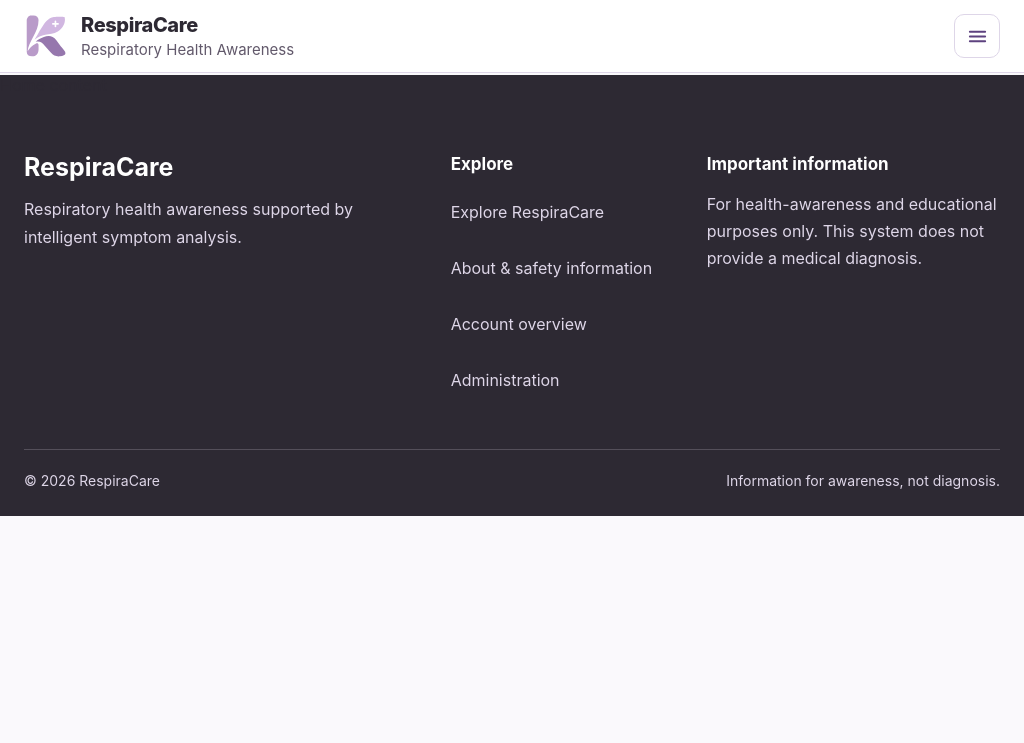
role-based application navigation › shows only admin links in the admin mobile menu
Step 1. Click the button named "Open navigation menu" → [977, 36], box 954,14 -> 1000,58
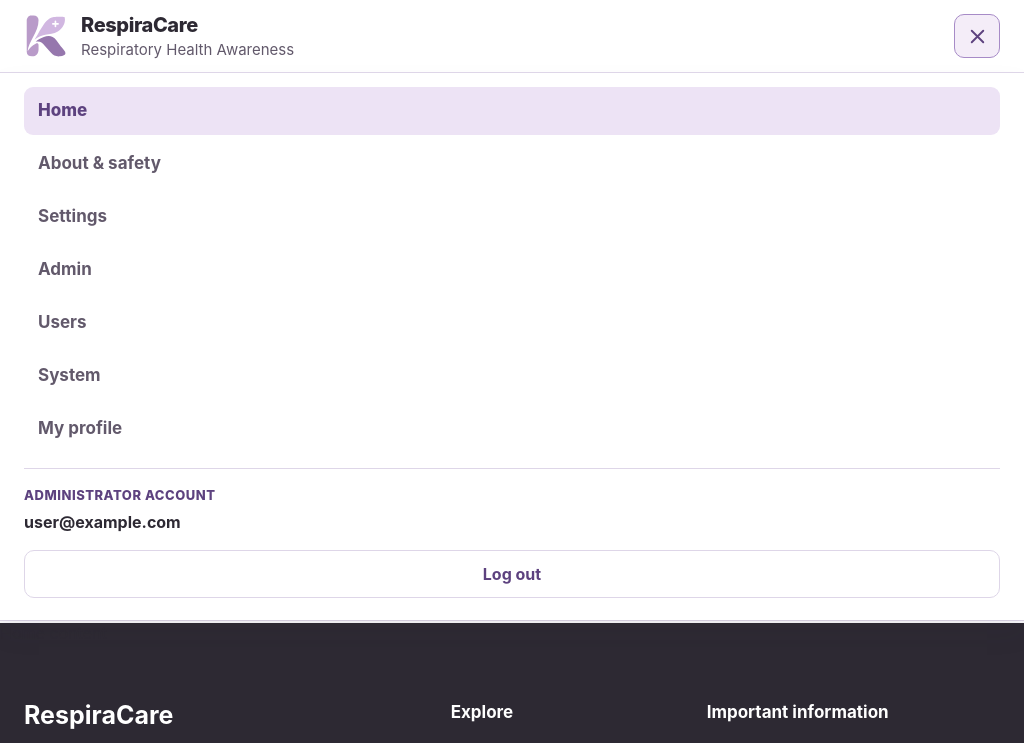
Expected: the link "Admin" is shown, 38,259 -> 92,279
